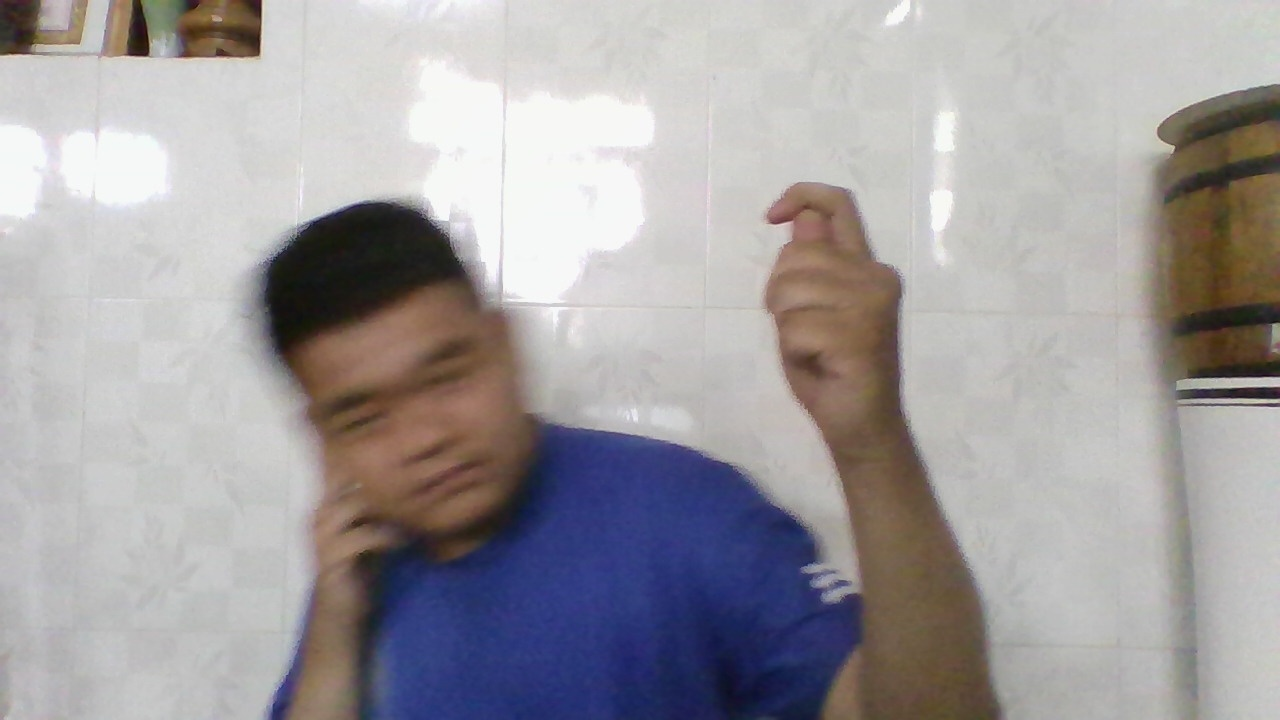X: (751, 178, 901, 450)
